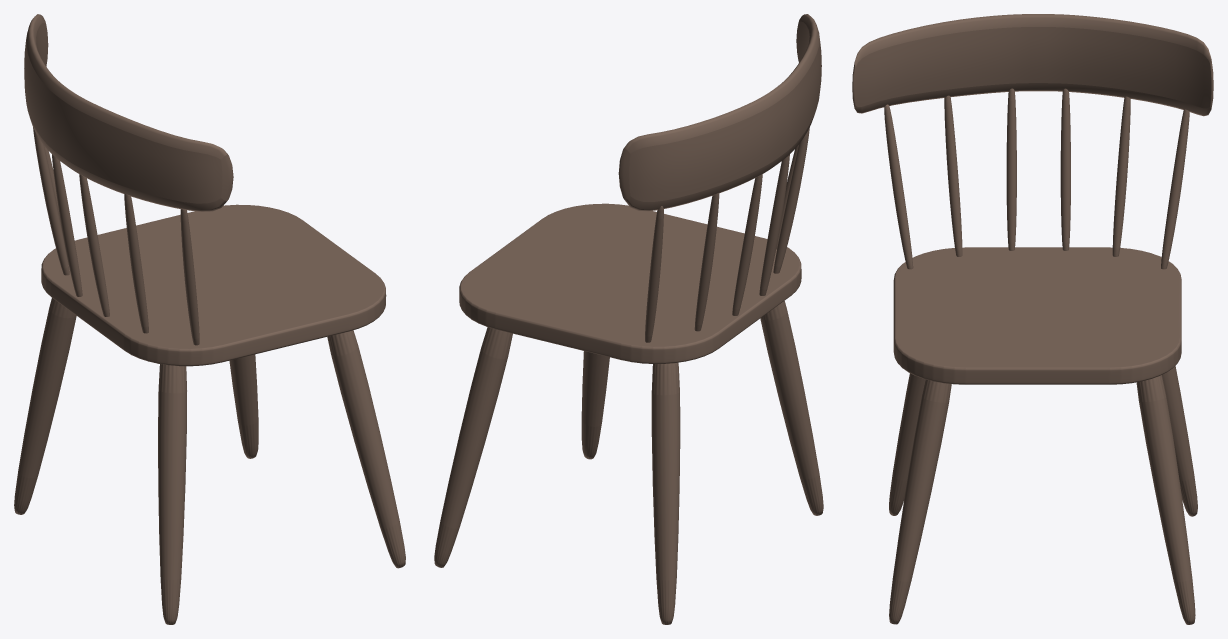
The model's file is kursi makan.fbx.
3 renders of one model, left to right at view 1: azimuth 30°, elevation 25°; view 2: azimuth 150°, elevation 25°; view 3: azimuth 270°, elevation 25°, orthographic.
Parts seen in each view (by area): view 1: polySurface35.015; view 2: polySurface35.015; view 3: polySurface35.015.
Boxes of the visible parts, x1,y1,x2,y2 form: polySurface35.015: (14, 14, 405, 624); polySurface35.015: (434, 14, 823, 624); polySurface35.015: (852, 14, 1213, 624).
Bounding box in the file's own units: 51.5 × 86.27 × 58.2.
